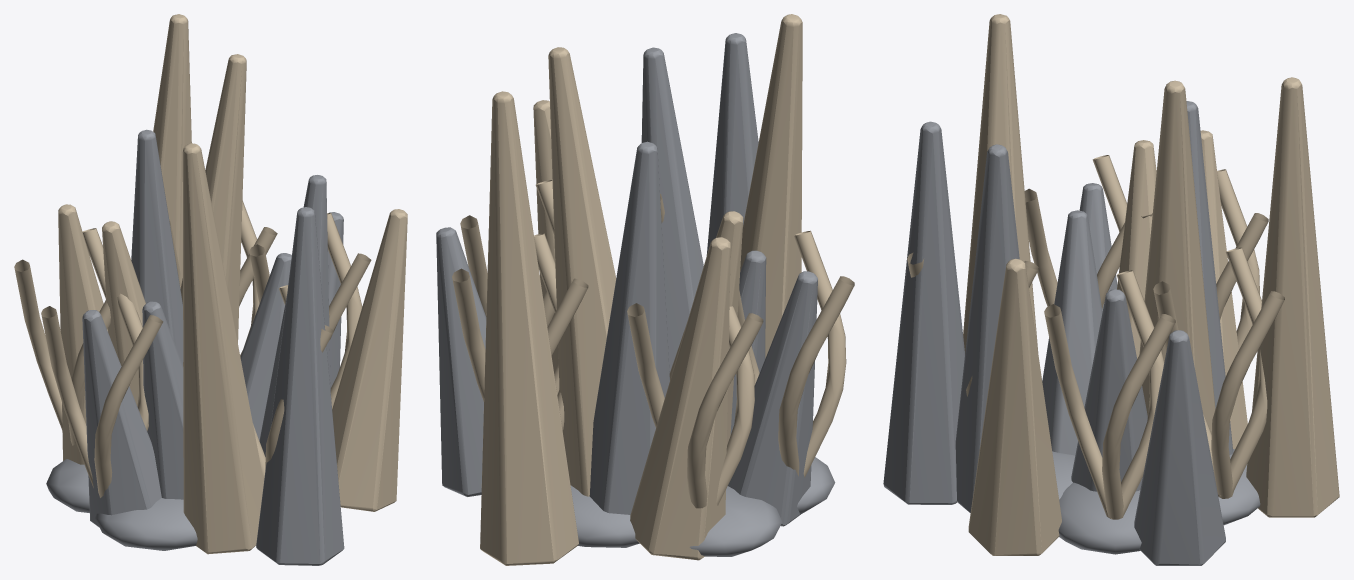
The model's file is bio_crystal_fan_24_far.glb.
3 views of the same model, side by side, from view 1: azimuth 30°, elevation 25°; view 2: azimuth 150°, elevation 25°; view 3: azimuth 270°, elevation 25° (orthographic). The views are drawn at different scales.
Visible parts, largest first — view 1: Reflecting mineral prism.007, Reflecting mineral prism.002, Reflecting mineral prism.005, Reflecting mineral prism.004, Reflecting mineral prism.003, Spiral filament.012, Reflecting mineral prism.006, Reflecting mineral prism.012, Reflecting mineral prism.011, Mineral substrate, Reflecting mineral prism.001, Reflecting mineral prism (+7 smaller); view 2: Reflecting mineral prism.011, Reflecting mineral prism.003, Reflecting mineral prism.006, Reflecting mineral prism.001, Reflecting mineral prism.007, Reflecting mineral prism.004, Reflecting mineral prism.010, Reflecting mineral prism.008, Spiral filament.003, Spiral filament.012, Mineral substrate, Reflecting mineral prism.002 (+5 smaller); view 3: Reflecting mineral prism.011, Reflecting mineral prism.002, Reflecting mineral prism.005, Reflecting mineral prism.008, Reflecting mineral prism.003, Reflecting mineral prism.010, Spiral filament, Reflecting mineral prism.012, Spiral filament.009, Reflecting mineral prism.007, Reflecting mineral prism, Mineral substrate (+6 smaller).
Part boxes in pixels (bbox=[...]): Reflecting mineral prism.007: bbox=[182, 143, 263, 554]; Reflecting mineral prism.002: bbox=[256, 207, 344, 565]; Reflecting mineral prism.005: bbox=[332, 209, 407, 511]; Reflecting mineral prism.004: bbox=[82, 310, 161, 527]; Reflecting mineral prism.003: bbox=[180, 54, 246, 366]; Spiral filament.012: bbox=[41, 293, 163, 497]; Reflecting mineral prism.006: bbox=[131, 129, 183, 365]; Reflecting mineral prism.012: bbox=[142, 301, 183, 499]; Reflecting mineral prism.011: bbox=[153, 14, 191, 288]; Mineral substrate: bbox=[46, 459, 197, 550]; Reflecting mineral prism.001: bbox=[58, 204, 107, 464]; Reflecting mineral prism: bbox=[240, 253, 291, 440]; Reflecting mineral prism.011: bbox=[480, 91, 578, 565]; Reflecting mineral prism.003: bbox=[548, 47, 616, 496]; Reflecting mineral prism.006: bbox=[589, 141, 669, 514]; Reflecting mineral prism.001: bbox=[630, 237, 730, 560]; Reflecting mineral prism.007: bbox=[740, 14, 802, 358]; Reflecting mineral prism.004: bbox=[728, 271, 817, 526]; Reflecting mineral prism.010: bbox=[641, 47, 703, 372]; Reflecting mineral prism.008: bbox=[436, 227, 486, 496]; Spiral filament.003: bbox=[627, 303, 763, 508]; Spiral filament.012: bbox=[737, 230, 854, 477]; Mineral substrate: bbox=[570, 457, 835, 556]; Reflecting mineral prism.002: bbox=[706, 33, 758, 255]; Reflecting mineral prism.011: bbox=[1246, 77, 1339, 517]; Reflecting mineral prism.002: bbox=[883, 121, 964, 504]; Reflecting mineral prism.005: bbox=[968, 258, 1061, 555]; Reflecting mineral prism.008: bbox=[1134, 330, 1225, 565]; Reflecting mineral prism.003: bbox=[1139, 80, 1215, 434]; Reflecting mineral prism.010: bbox=[955, 144, 1019, 512]; Spiral filament: bbox=[1044, 270, 1175, 519]; Reflecting mineral prism.012: bbox=[1042, 210, 1102, 455]; Spiral filament.009: bbox=[1153, 247, 1284, 498]; Reflecting mineral prism.007: bbox=[963, 14, 1038, 353]; Reflecting mineral prism: bbox=[1071, 289, 1147, 491]; Mineral substrate: bbox=[1052, 449, 1260, 554].
Size of the model in its own units: 1.67 by 1.97 by 1.82.
